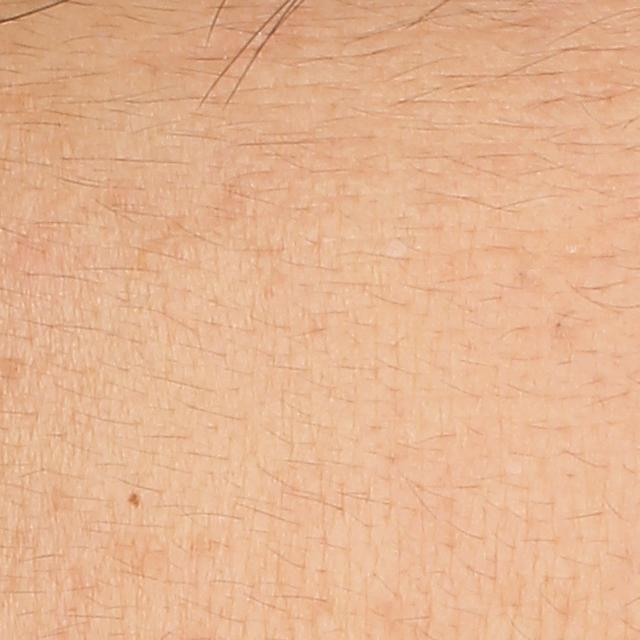nevus: (125, 491, 144, 511)
